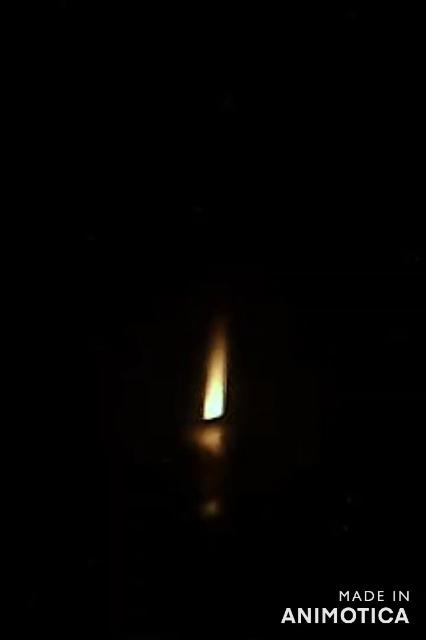burner flame: (198, 324, 231, 422)
